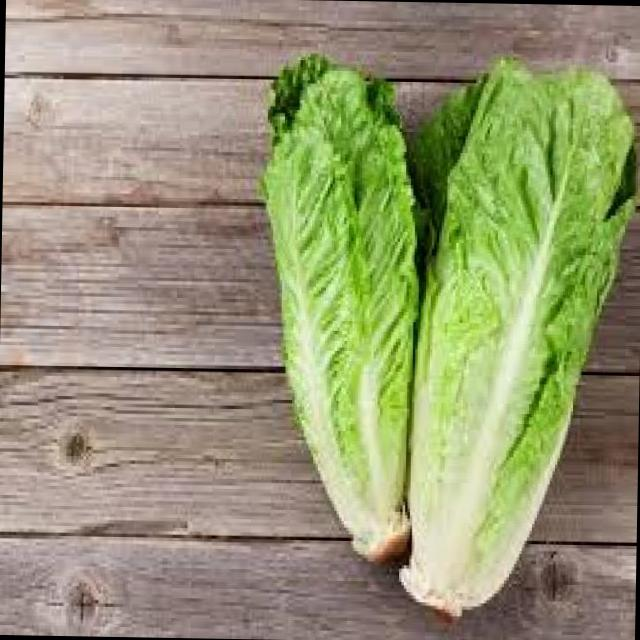Lettuce-Ready-to-Harvest: (401, 59, 635, 614), (264, 55, 417, 559)
